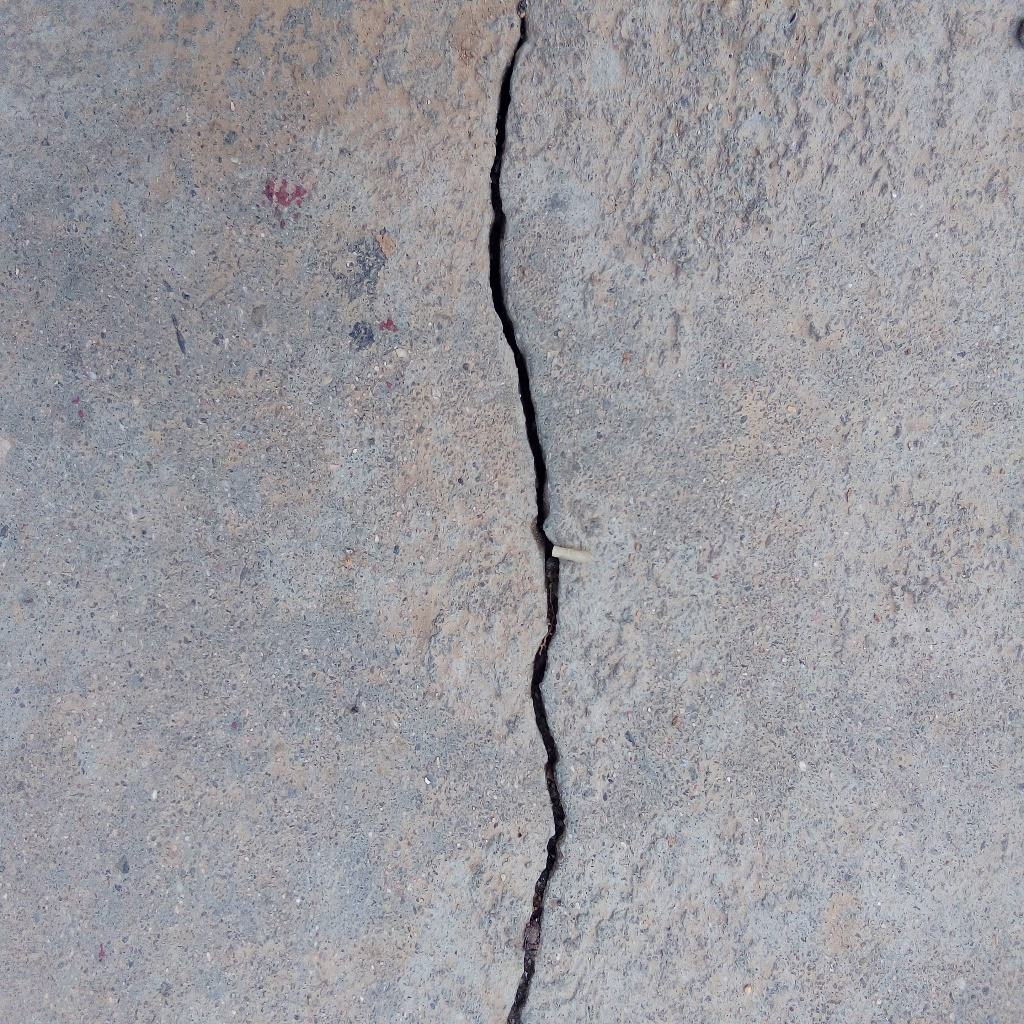Crack: (485, 1, 570, 1024)
